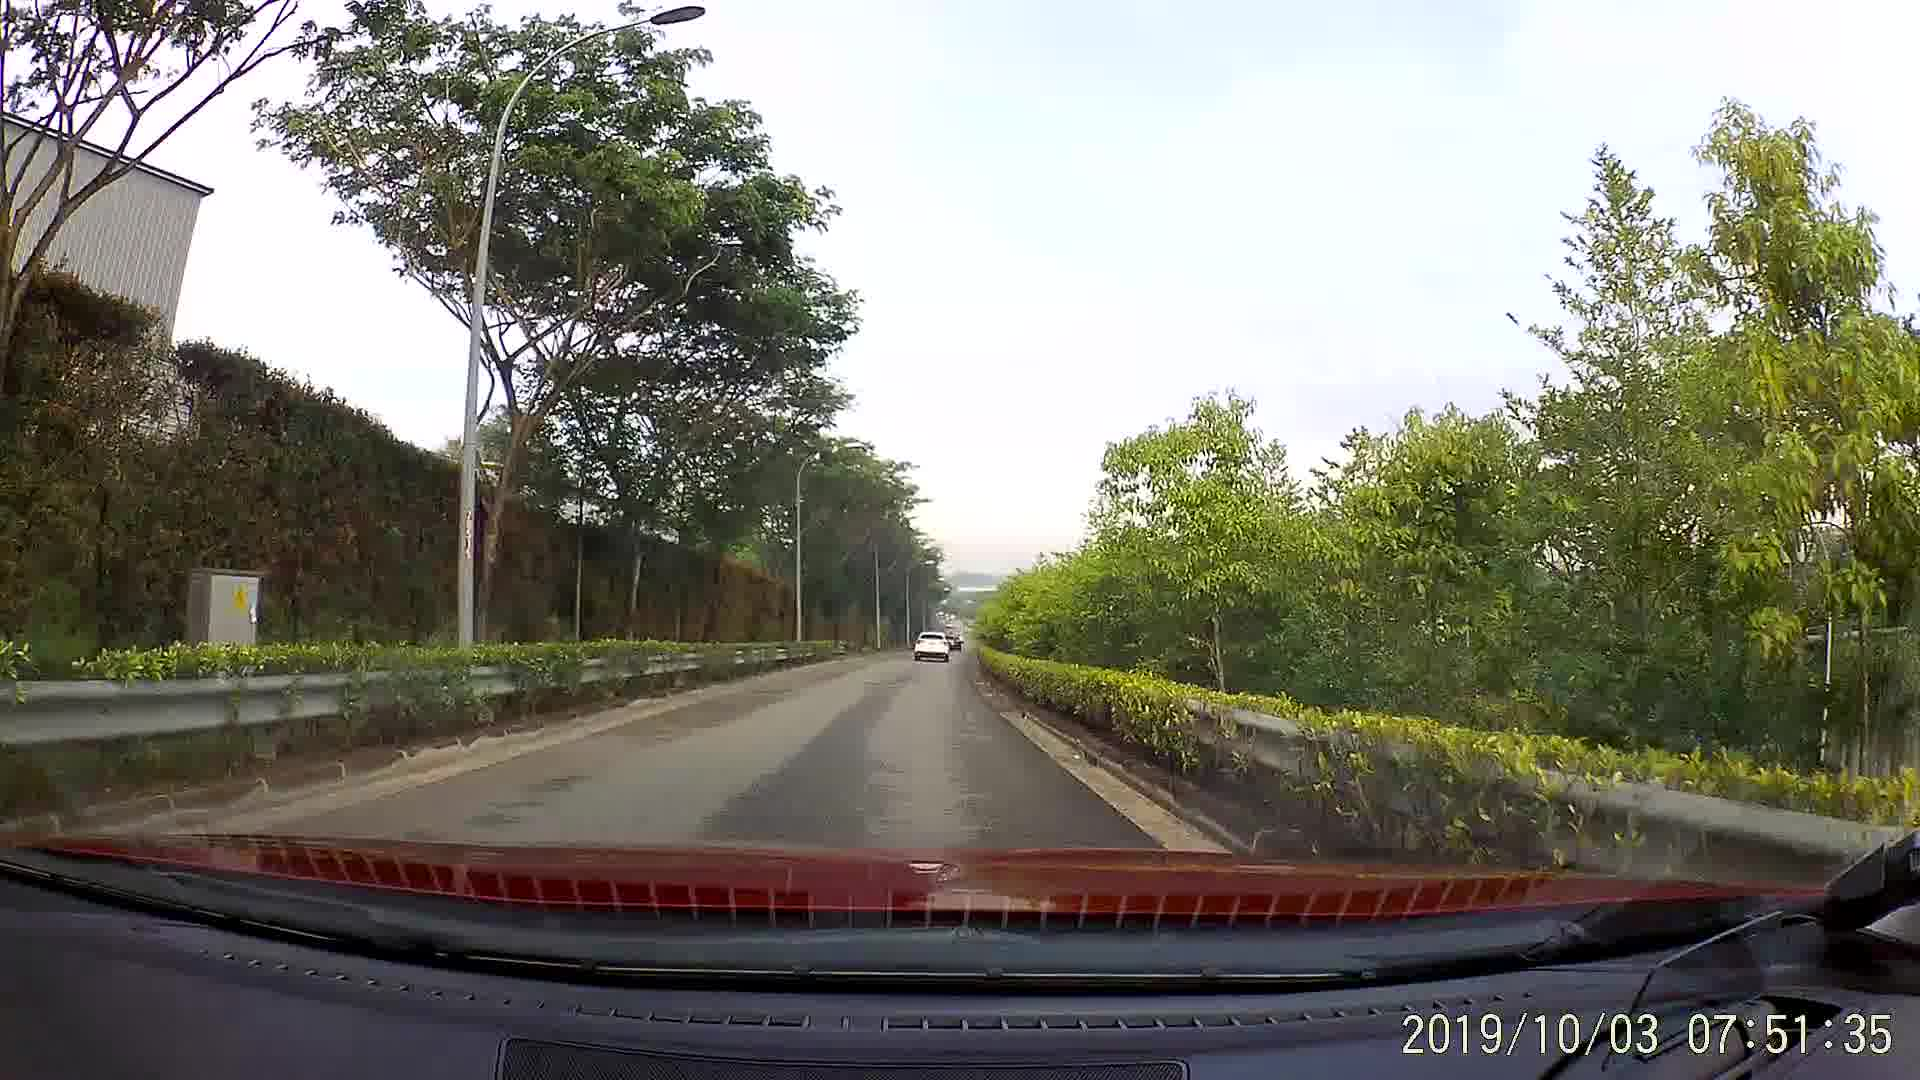car: (909, 626, 949, 665), (944, 632, 961, 649)
